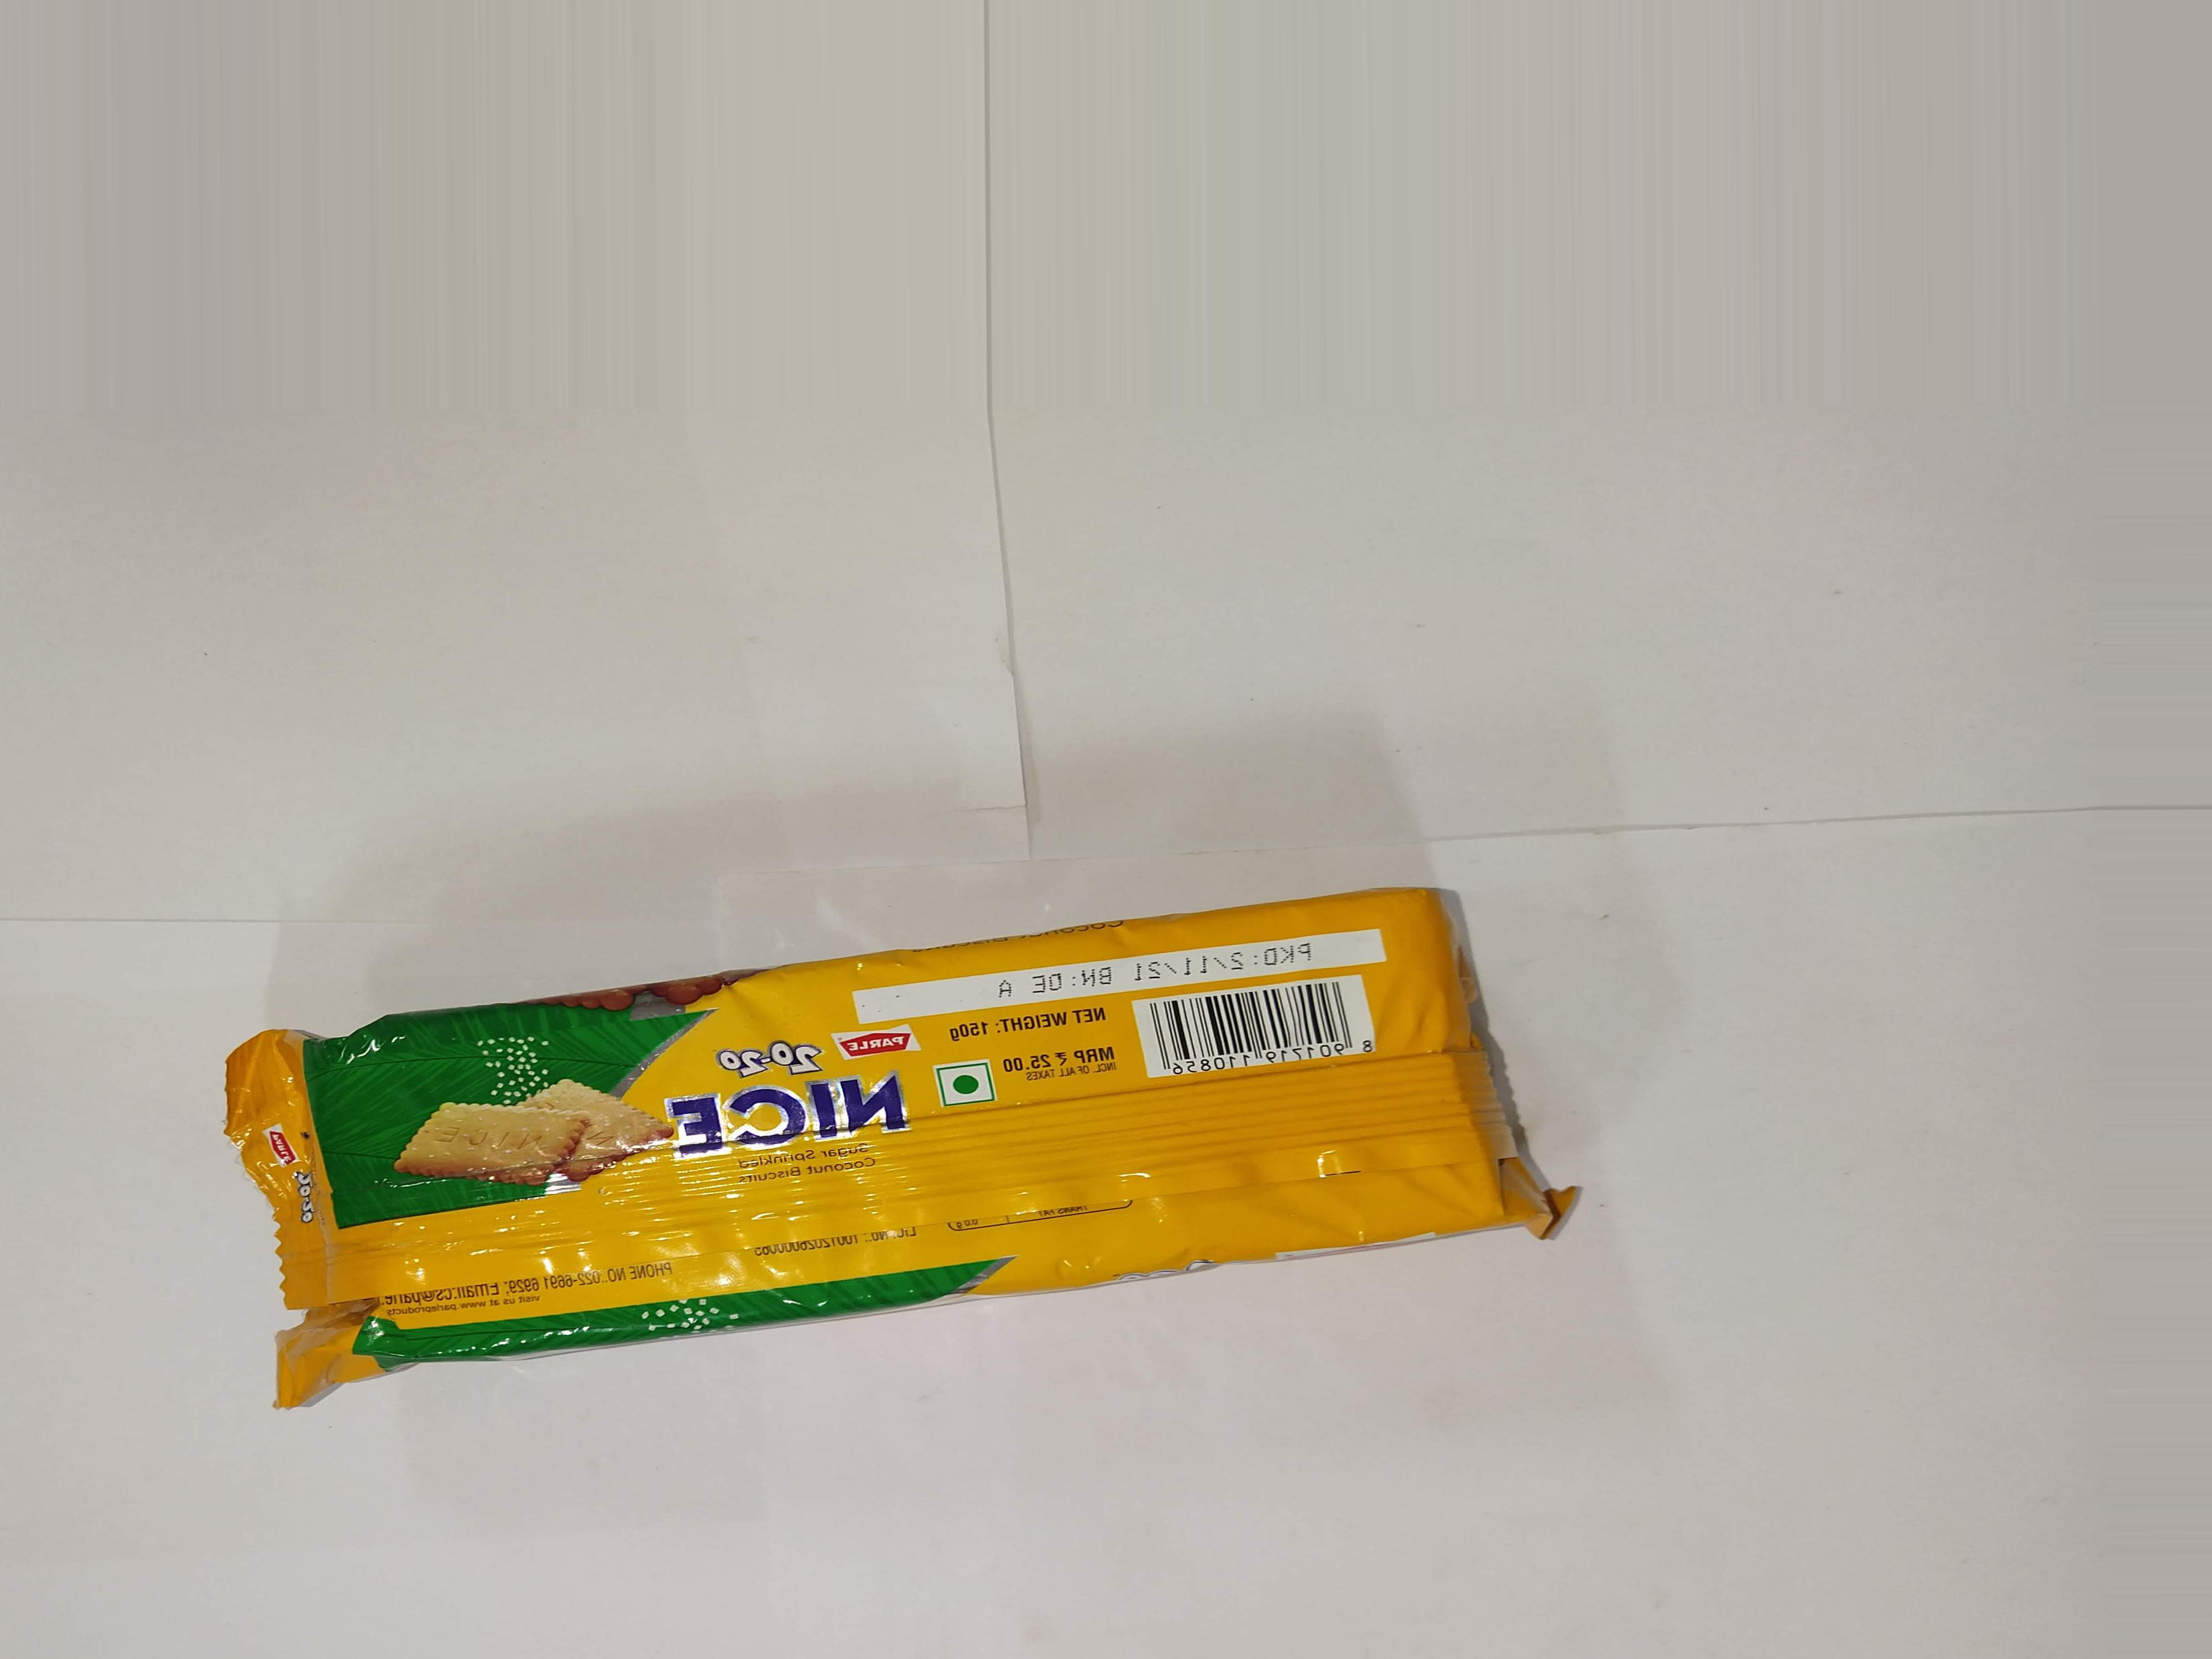Bar_code: (1125, 978, 1423, 1115)
Item: (110, 913, 1688, 1425)
